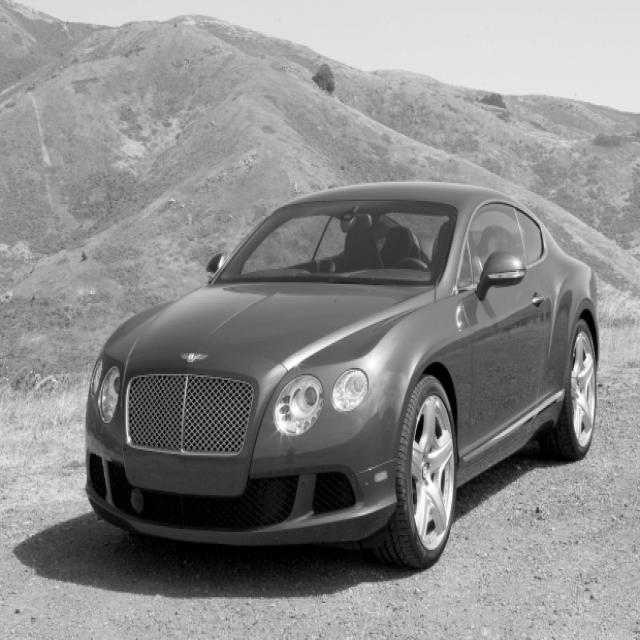car: (83, 179, 600, 569)
